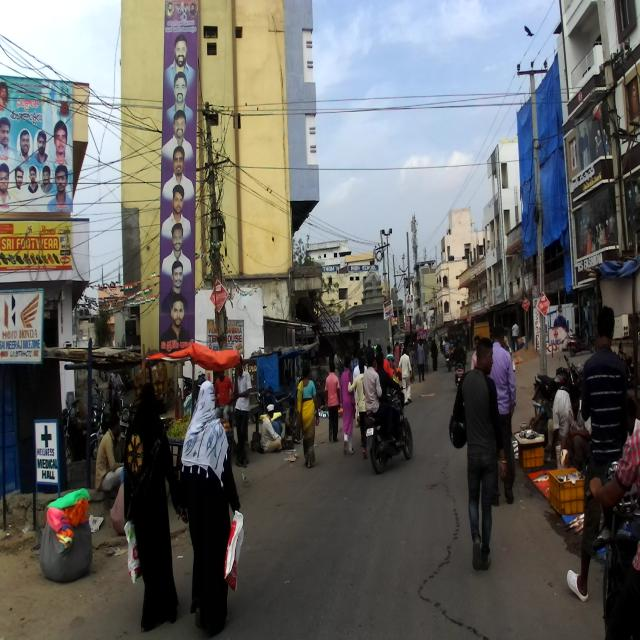motorcycle ahead at: (359, 394, 414, 473)
person ahead at: (177, 380, 249, 637), (449, 328, 512, 574)
